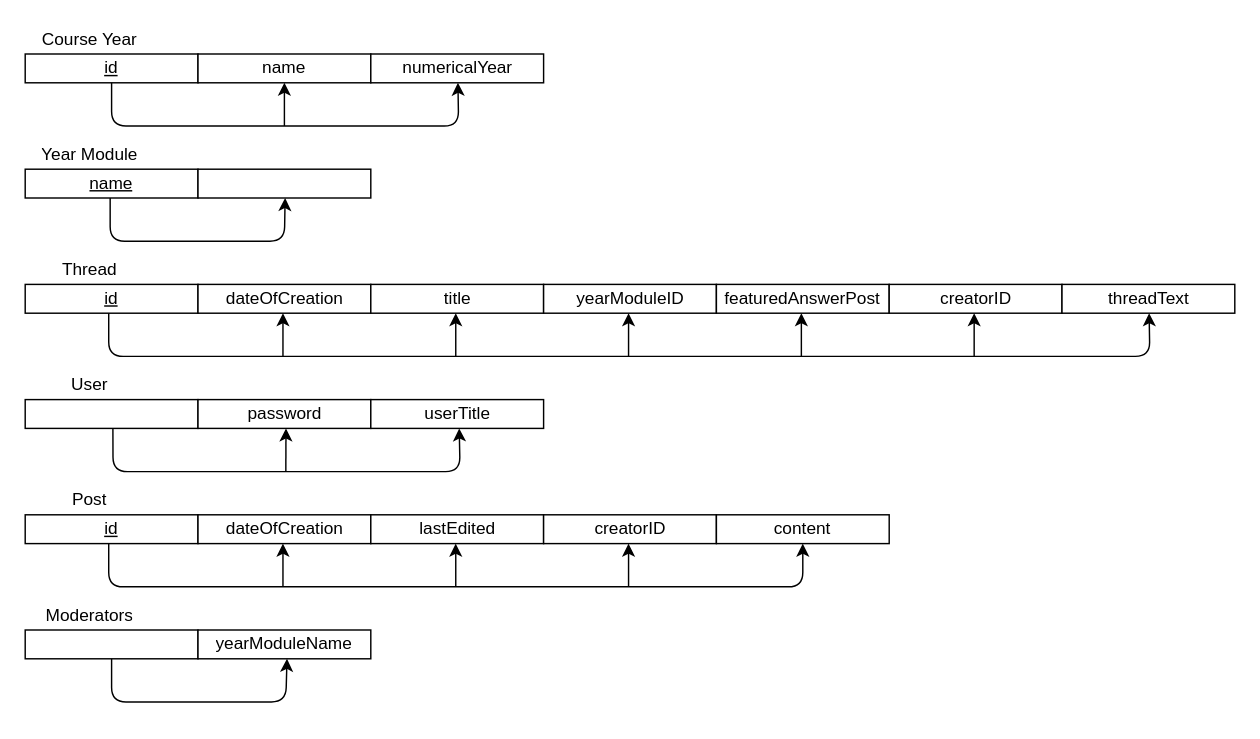
The diagram is 1260 pixels wide and 739 high, and some of its shapes have lost their labels. The shapes that lost their labels are listed below. From the top down, each one's centre as x and y in pixels, then its label:
At point (284, 183): "courseYearID".
At point (111, 413): "username".
At point (111, 644): "userID".
